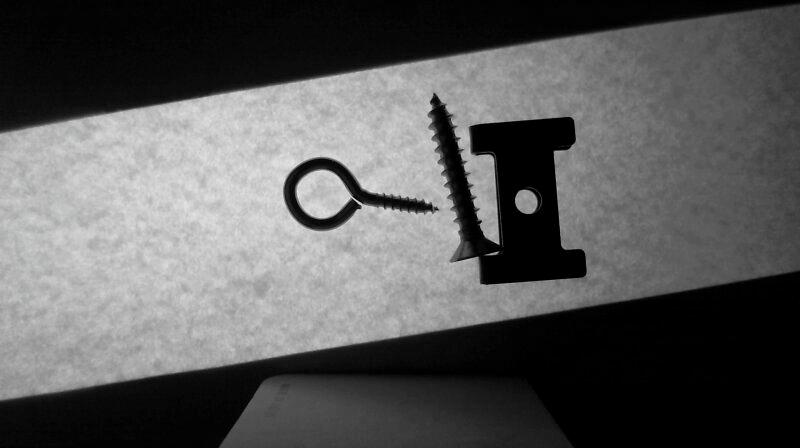O001: (279, 154, 440, 231)
O002: (469, 116, 586, 285)
S001: (428, 90, 502, 262)
